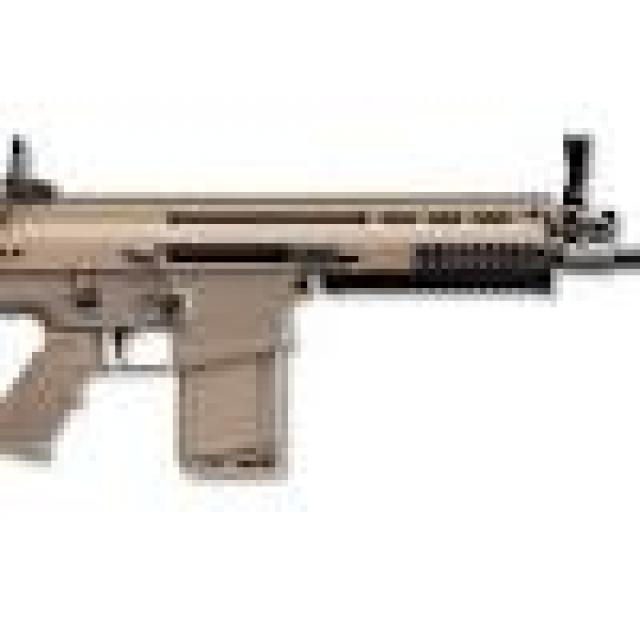Gun: (0, 116, 640, 490)
